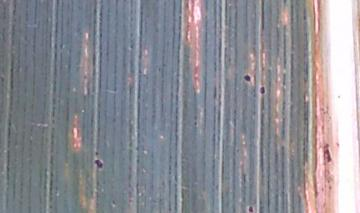tarspot: (92, 157, 105, 170), (258, 83, 266, 96), (242, 73, 252, 83), (247, 205, 256, 213)
